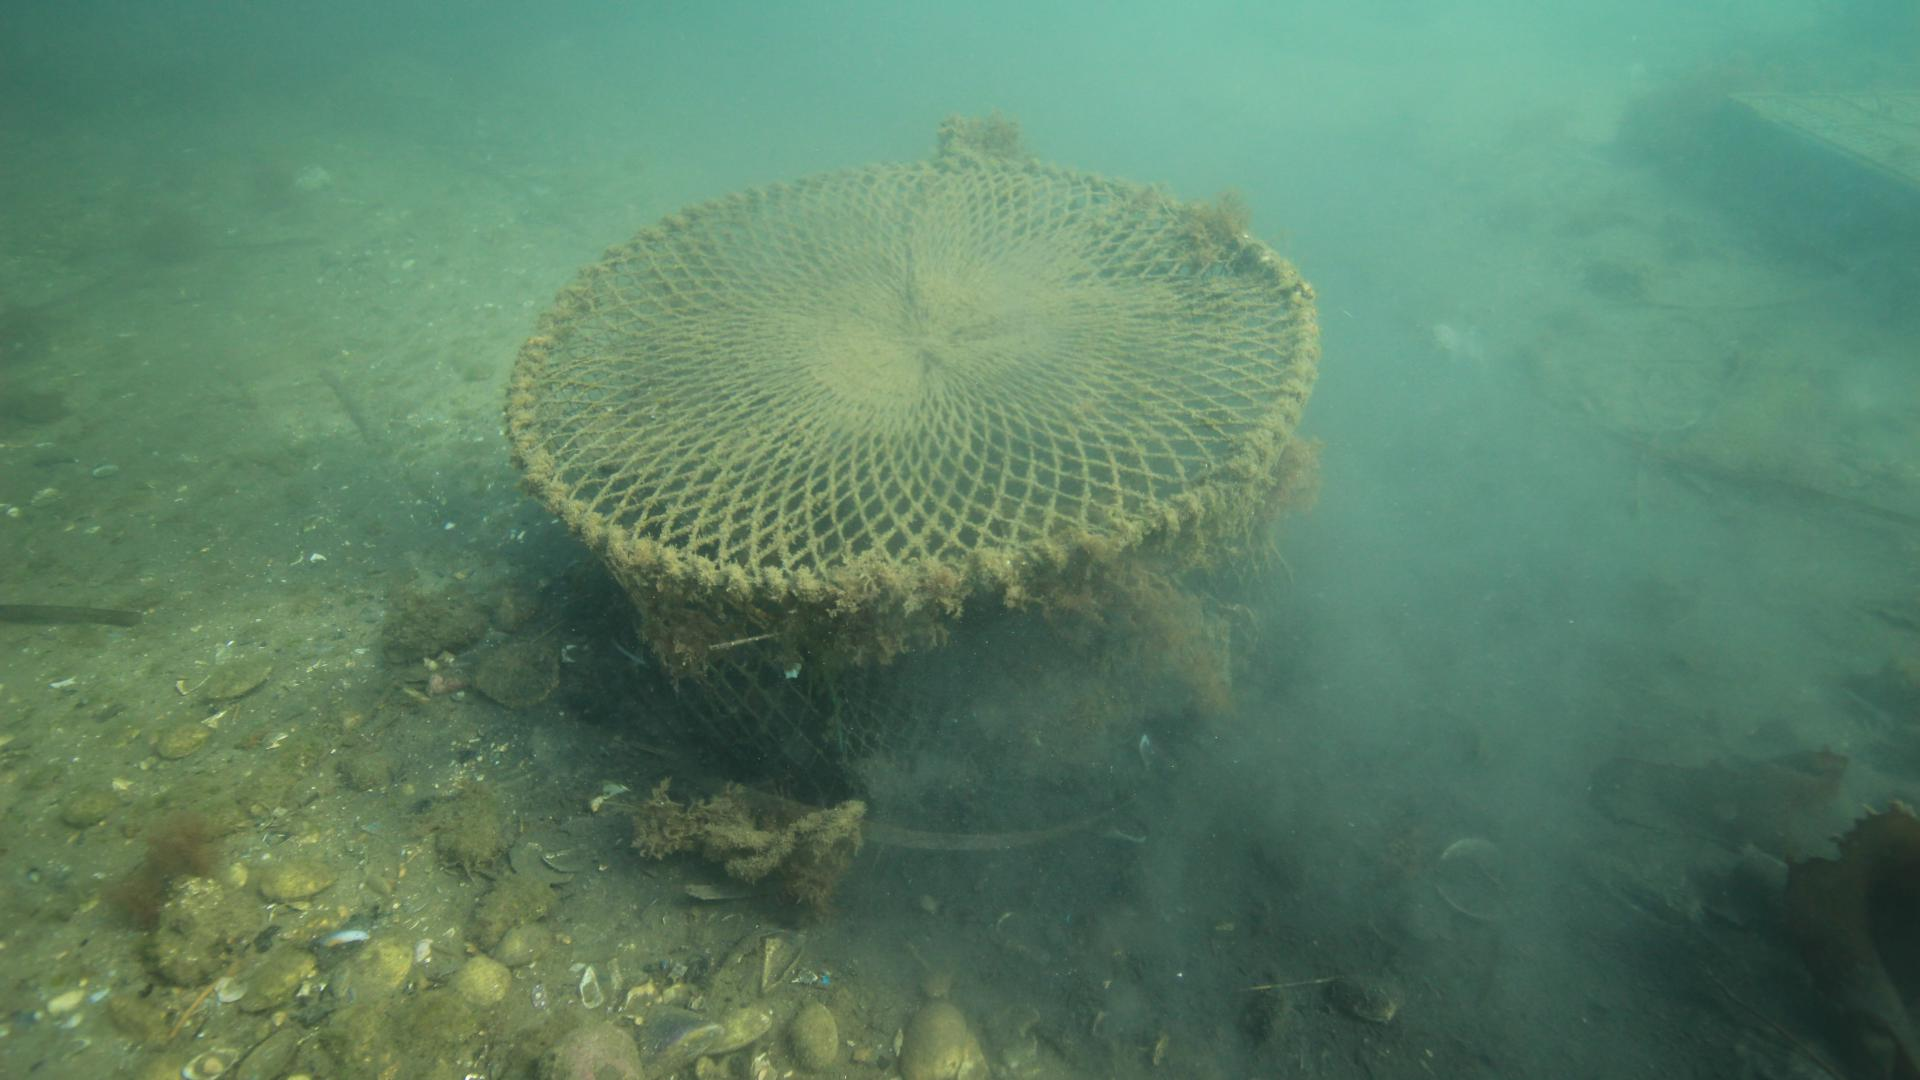circular fish trap: (502, 158, 1323, 808)
